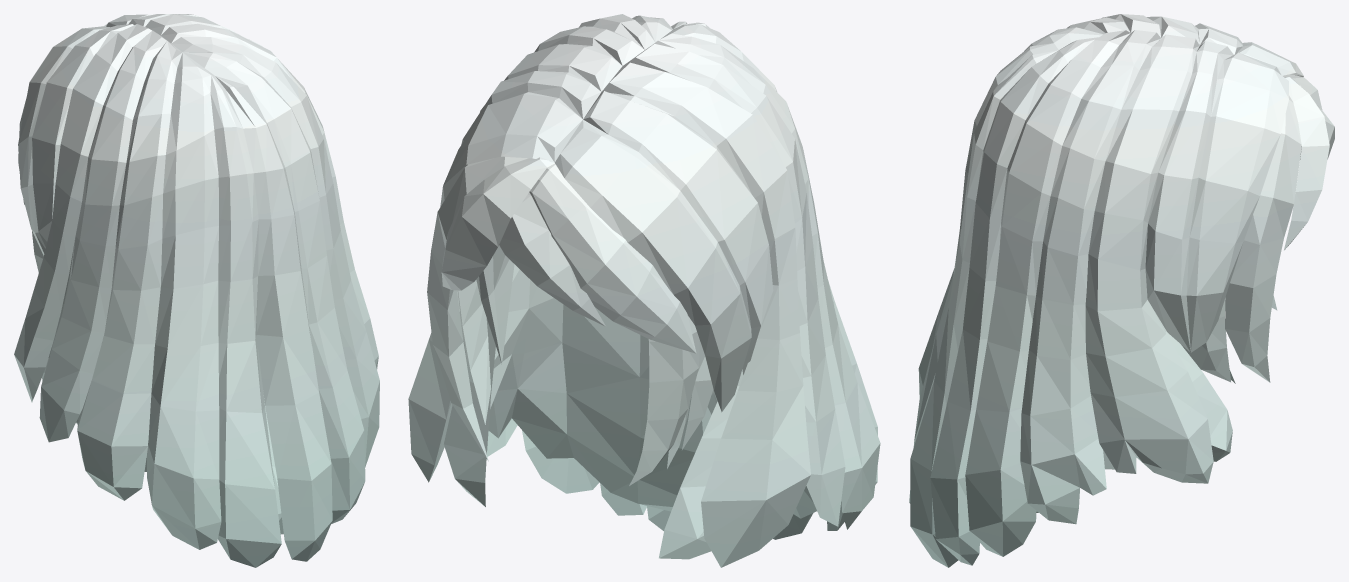
Rendered from CharSkyKid_Hair_ShoulderLong.glb.
3 renders of one model, left to right at view 1: azimuth 30°, elevation 25°; view 2: azimuth 150°, elevation 25°; view 3: azimuth 270°, elevation 25°, orthographic. The views are drawn at different scales.
Visible parts, largest first — view 1: CharSkyKid_Hair_ShoulderLong; view 2: CharSkyKid_Hair_ShoulderLong; view 3: CharSkyKid_Hair_ShoulderLong.
Boxes of the visible parts, x1,y1,x2,y2 form: CharSkyKid_Hair_ShoulderLong: [14, 14, 379, 567]; CharSkyKid_Hair_ShoulderLong: [408, 14, 880, 567]; CharSkyKid_Hair_ShoulderLong: [909, 14, 1334, 567].
Size of the model in its own units: 3.42 by 5.05 by 3.81.
1 material, 1 textured.
